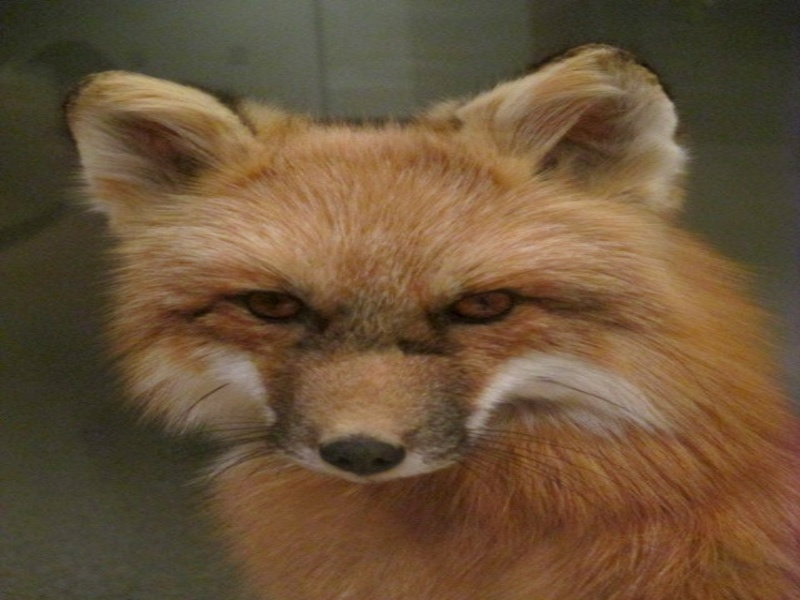fox: (61, 39, 784, 583)
